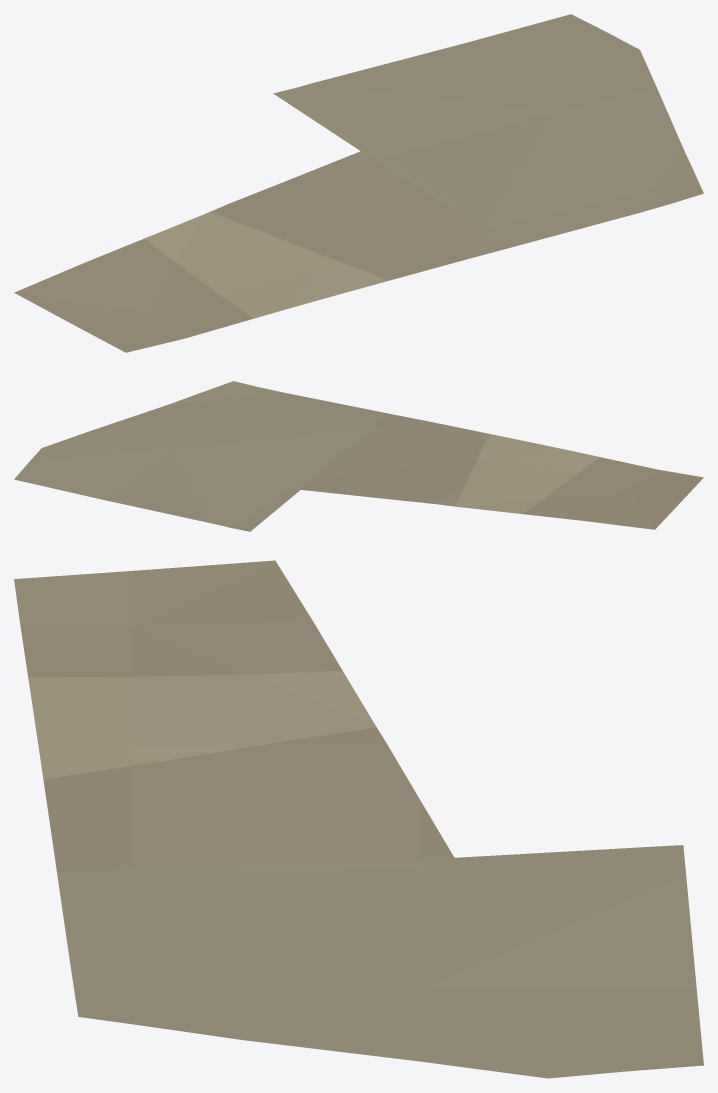
File: farm_16_11_soil.glb
3 renders of one model, top to bottom at view 1: azimuth 30°, elevation 25°; view 2: azimuth 150°, elevation 25°; view 3: azimuth 270°, elevation 25°, orthographic. The views are drawn at different scales.
Parts seen in each view (by area): view 1: geometry_0; view 2: geometry_0; view 3: geometry_0.
Boxes of the visible parts, <box> form: geometry_0: <box>14,14,703,352</box>; geometry_0: <box>14,381,703,531</box>; geometry_0: <box>14,560,703,1078</box>.
Size of the model in its own units: 339 by 3.09 by 191.
